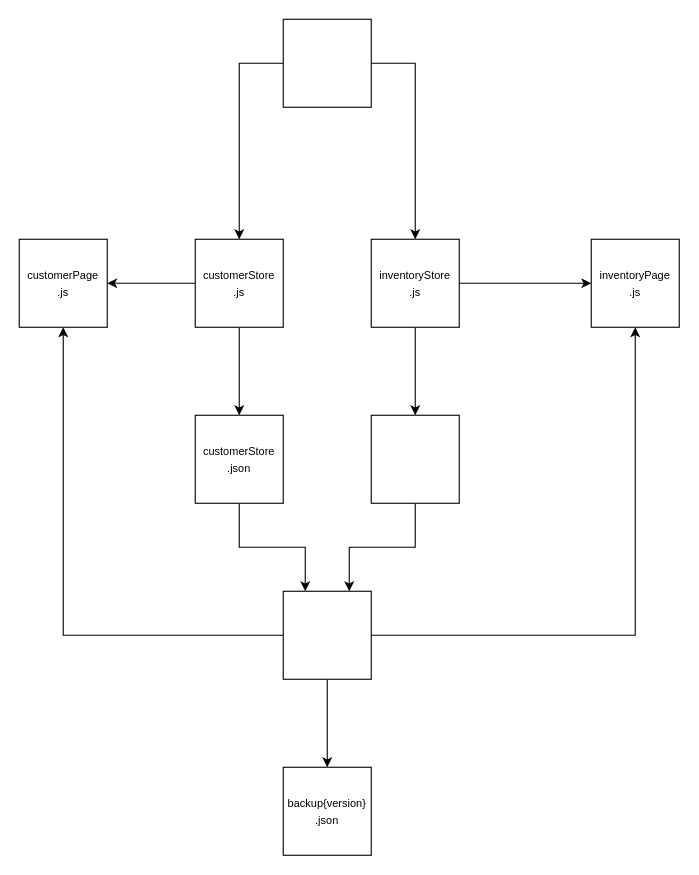
Some shapes in this 699 by 875 pixel diagram are drawn without their labels. Each missing label, with the box of its shape:
backupStore .json: (282, 590, 371, 679)
inventoryStore .json: (370, 414, 459, 503)
store .js: (282, 18, 371, 107)
